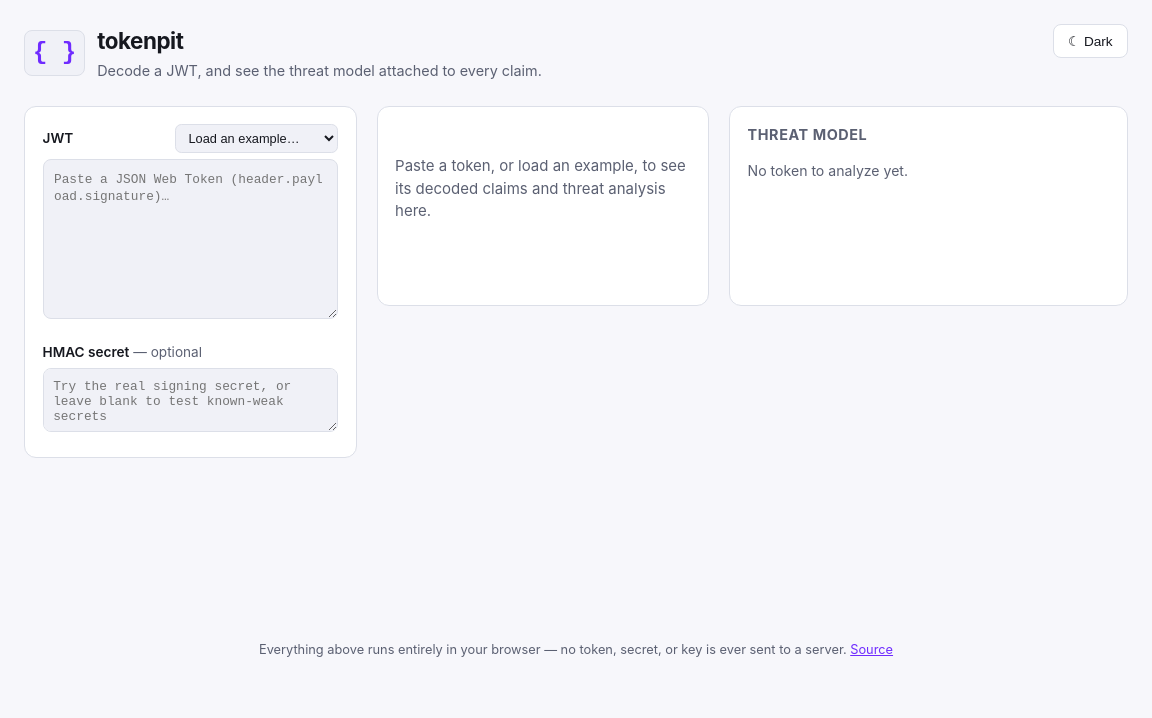
Test: App › loading the healthy example with its suggested secret verifies successfully
The width and height of the screenshot is (1152, 718).
Select "Healthy HS256 token" in the dropdown named "load an example": (257, 138) [176,124,338,153]
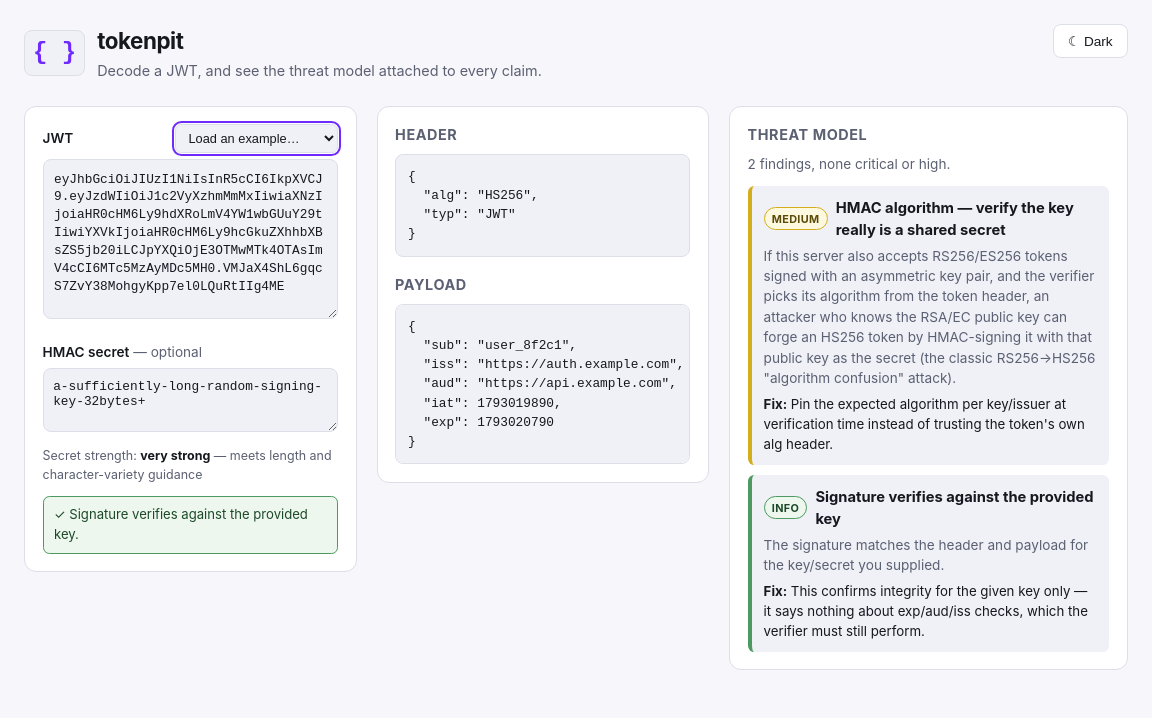
expect the text "✓ Signature verifies against the provided key." is shown: met, box [43,496,338,554]
